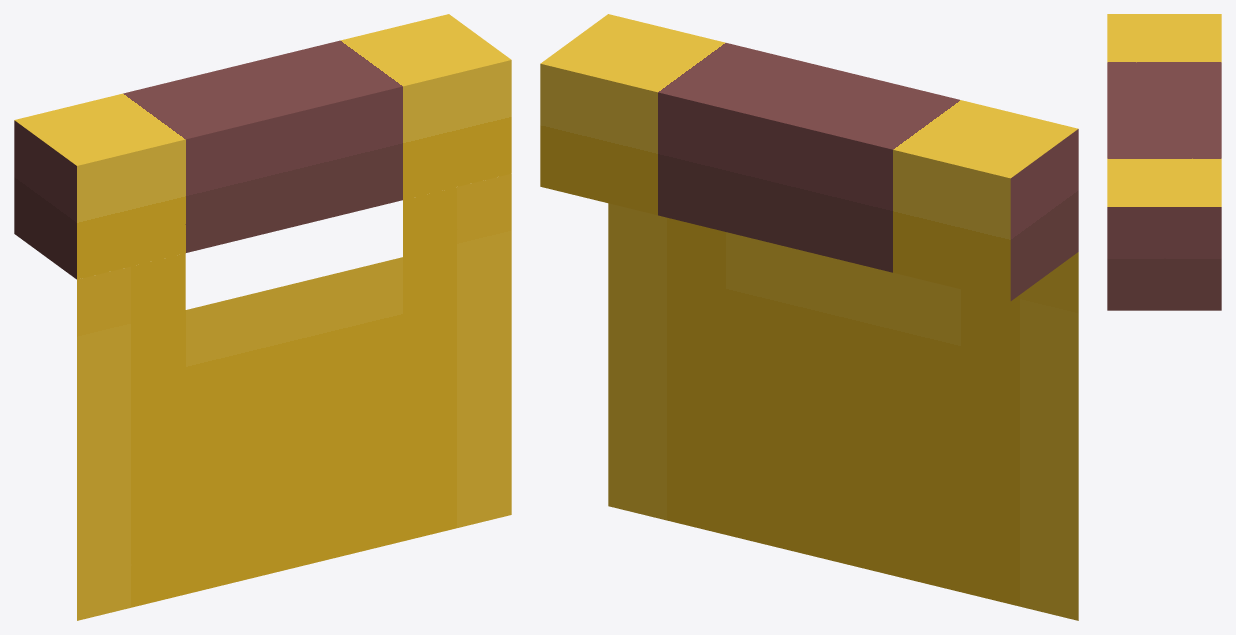
File: _Yellow Banner Hanging.glb
3 views of the same model, side by side, from view 1: azimuth 30°, elevation 25°; view 2: azimuth 150°, elevation 25°; view 3: azimuth 270°, elevation 25° (orthographic). The views are drawn at different scales.
Parts seen in each view (by area): view 1: cube; view 2: cube; view 3: cube.
Part boxes in pixels (x1=…): cube: x1=14, y1=14, x2=511, y2=620; cube: x1=540, y1=14, x2=1078, y2=620; cube: x1=1107, y1=14, x2=1221, y2=310.
Bounding box in the file's own units: 1 × 1 × 0.2501.
Materials: 1 (1 with a texture image).
